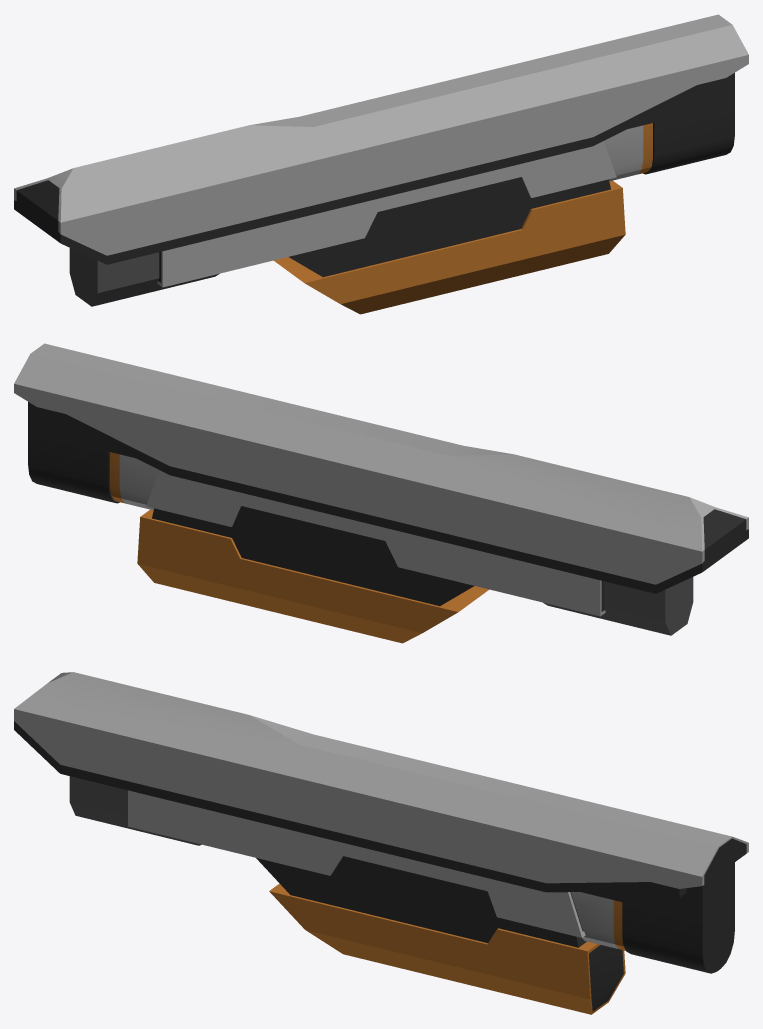
File: Body_Sniper_2.glb
3 renders of one model, top to bottom at view 1: azimuth 30°, elevation 25°; view 2: azimuth 150°, elevation 25°; view 3: azimuth 330°, elevation 25°, orthographic.
Parts seen in each view (by area): view 1: Body_Sniper_2; view 2: Body_Sniper_2; view 3: Body_Sniper_2.
Part boxes in pixels (x1=…): Body_Sniper_2: x1=14, y1=14, x2=748, y2=314; Body_Sniper_2: x1=14, y1=343, x2=748, y2=643; Body_Sniper_2: x1=14, y1=672, x2=748, y2=1014.
Size of the model in its own units: 1.52 by 0.4378 by 0.1784.
